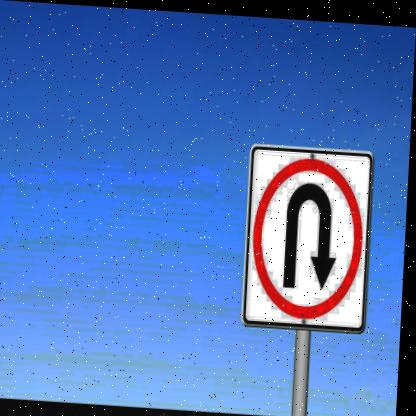U-turn: (248, 142, 376, 322)
